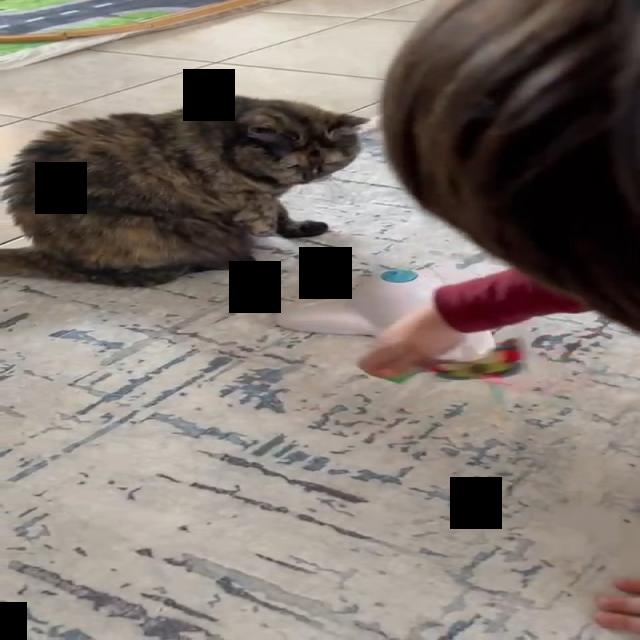authorized: (0, 95, 371, 288)
